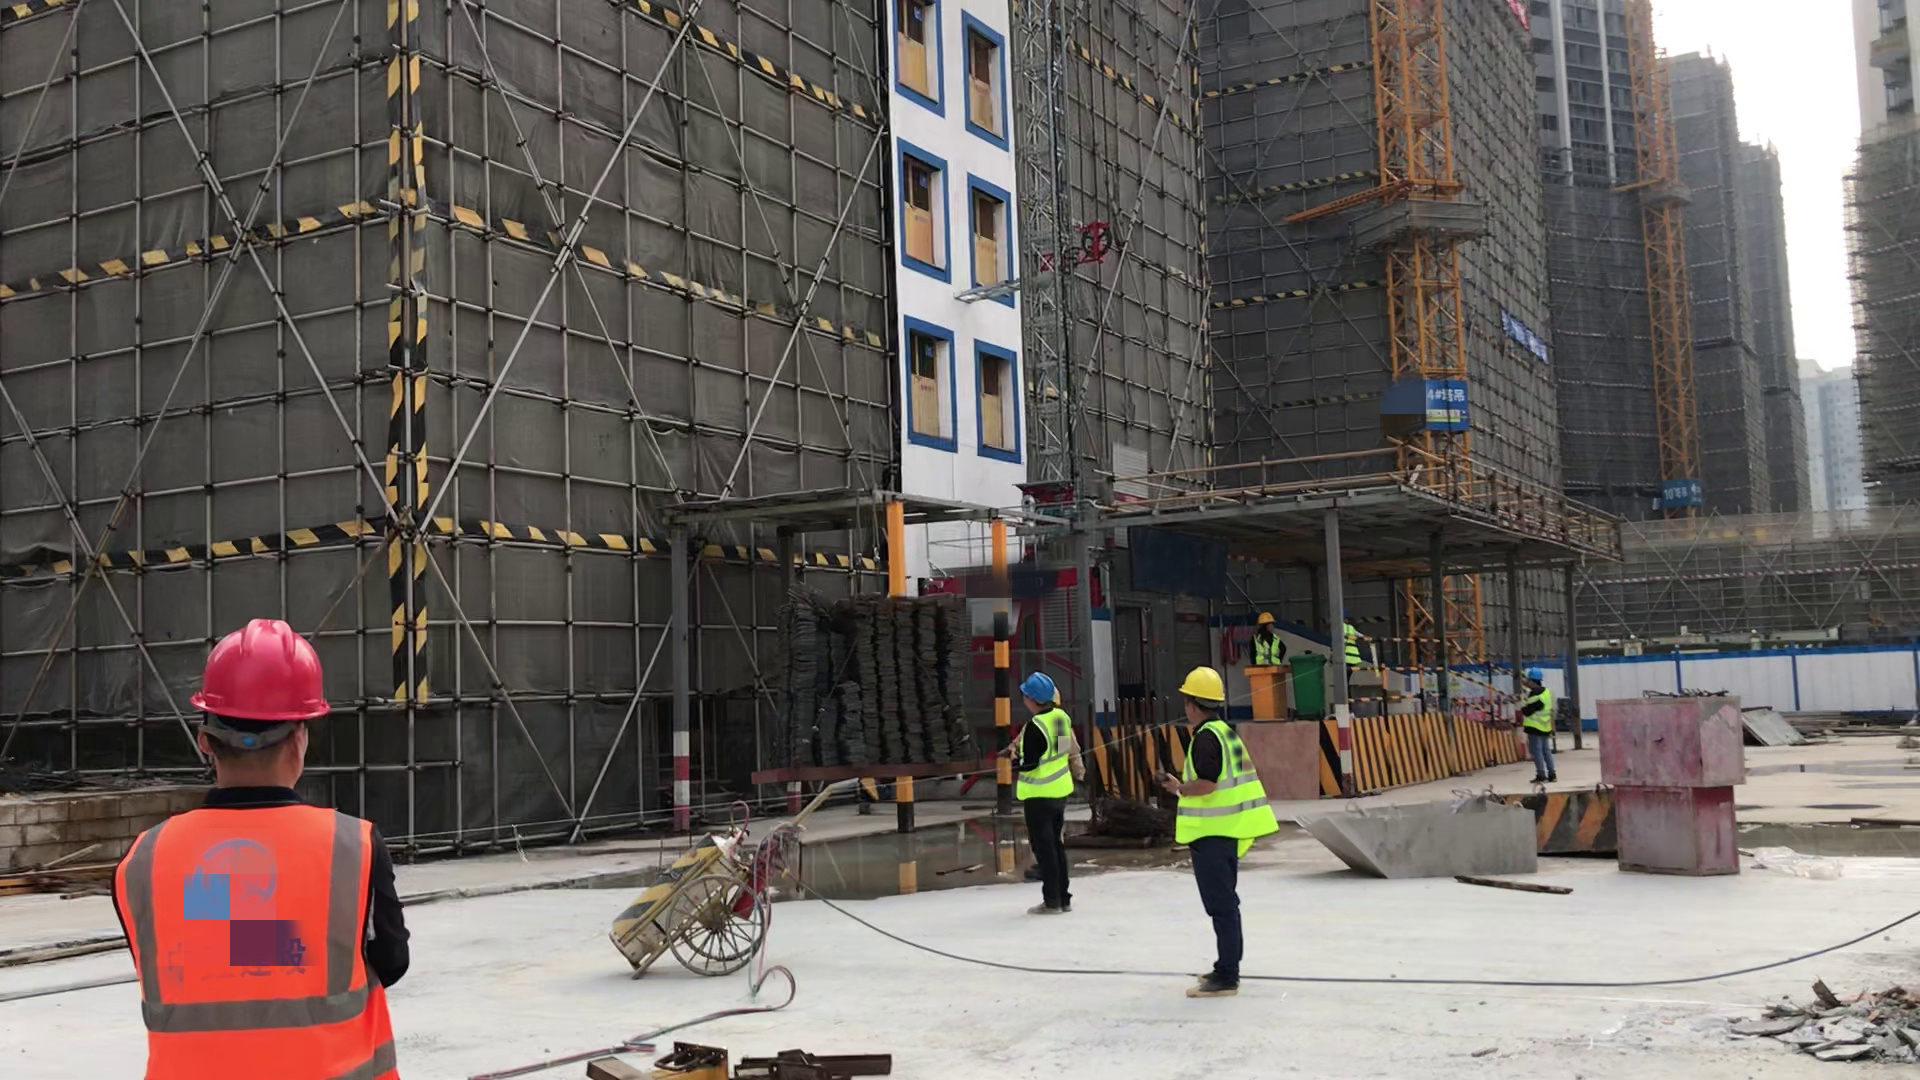handcart: (615, 805, 863, 986)
helmet: (189, 617, 339, 716), (1175, 665, 1228, 700), (1017, 671, 1058, 707), (1515, 665, 1551, 685), (1251, 608, 1274, 629)
hopper: (1304, 794, 1544, 881)
person: (120, 605, 421, 1080), (1160, 675, 1288, 1002), (1008, 665, 1079, 917), (1518, 652, 1557, 781), (1340, 619, 1364, 684), (1251, 615, 1278, 662)
vest: (126, 810, 396, 1078), (1175, 722, 1277, 848), (1008, 710, 1075, 799), (1518, 689, 1556, 729), (1253, 633, 1284, 661), (1347, 631, 1361, 662)
